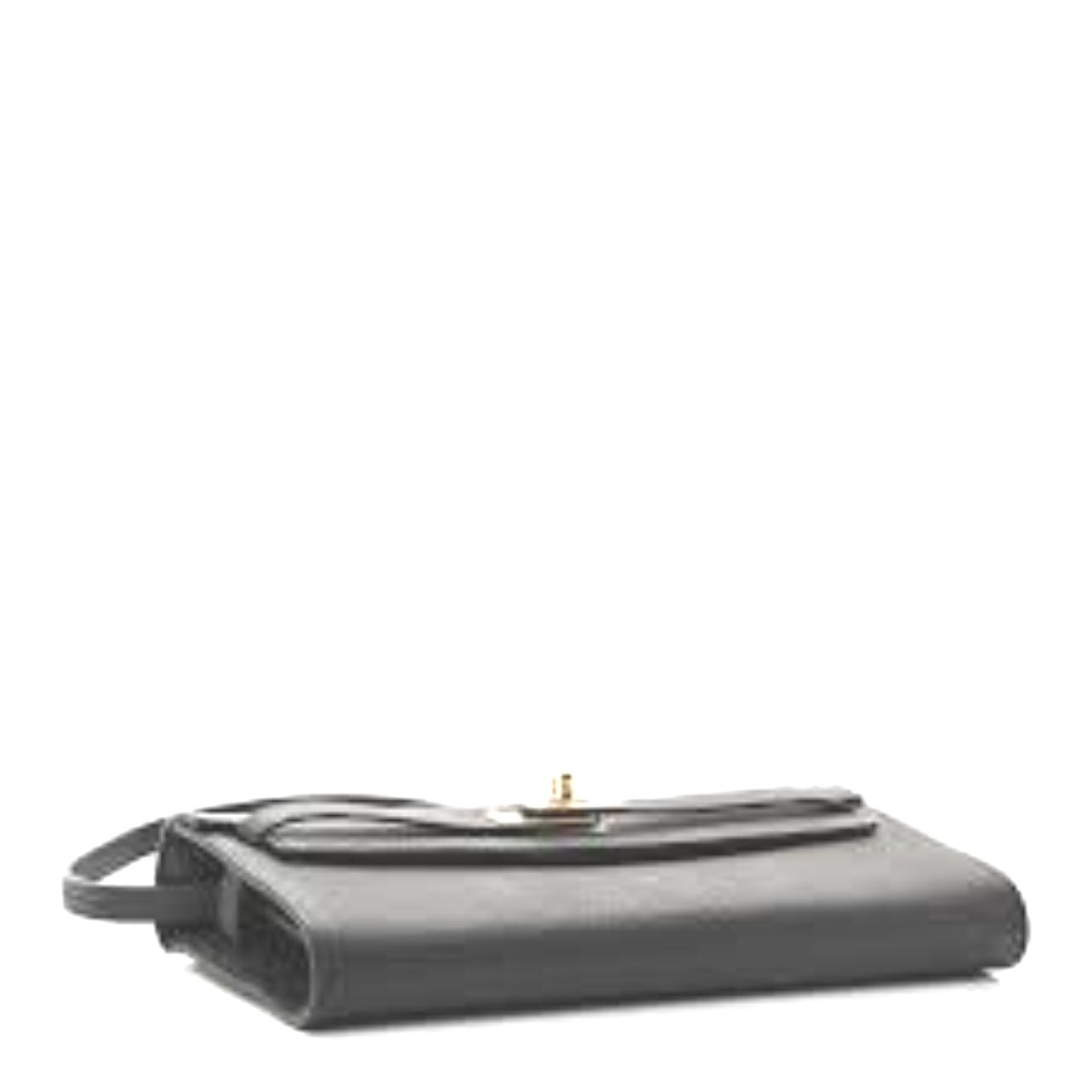wallet: (165, 789, 1021, 1016)
